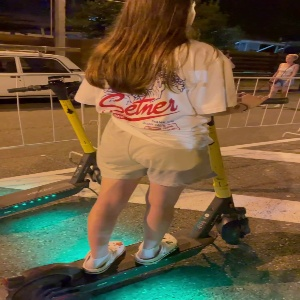human on a scooter: (1, 1, 288, 300)
